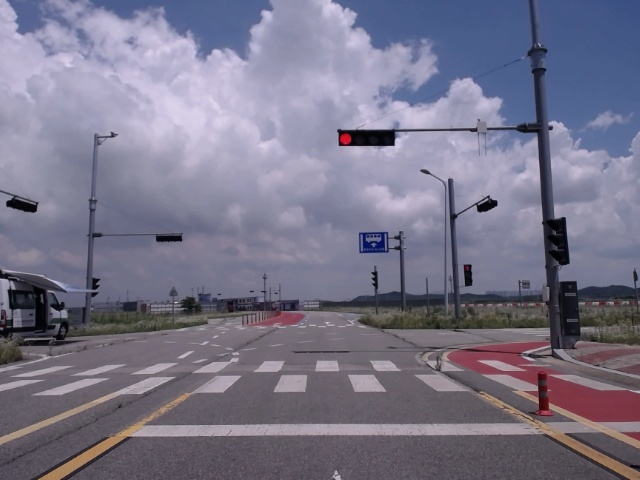red_4: (338, 132, 395, 146)
